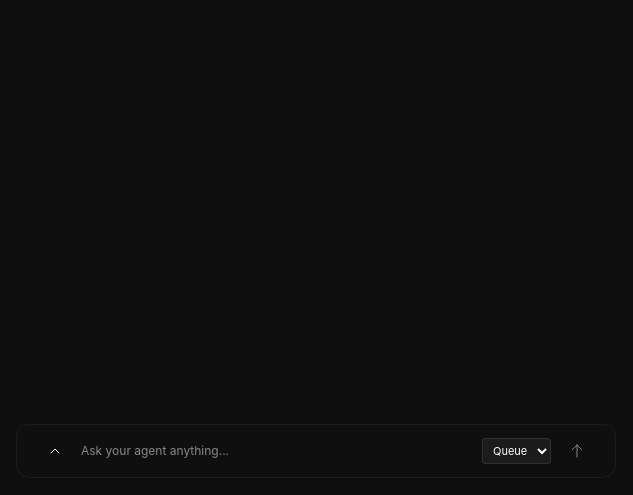
Test case: FloatingChat › lists persisted conversations and loads a selected transcript
The width and height of the screenshot is (633, 495).
Click the button named "Expand agent chat".
click(55, 451)  # box [41, 437, 69, 465]
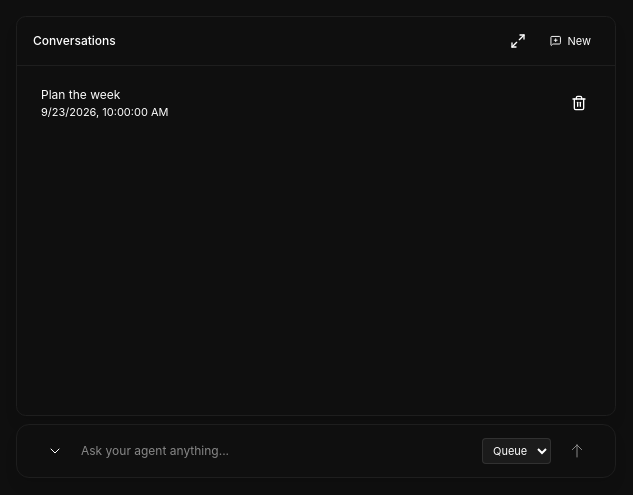
Expected: the text "Loading conversations..." is shown, [29, 78, 603, 128]
Click the button "Plan the week 9/23/2026, 10:00:00 AM".
click(81, 95)  # box [29, 78, 563, 128]
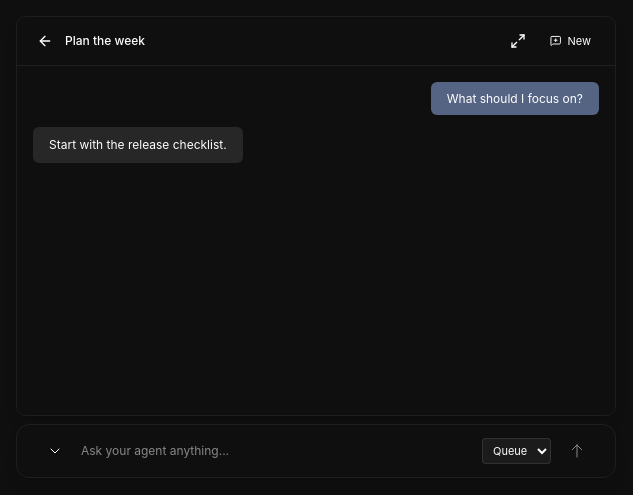
Expected: the text "What should I focus on?" is shown, [447, 91, 583, 106]
Expected: the text "Start with the release checklist." is shown, [49, 135, 227, 155]
